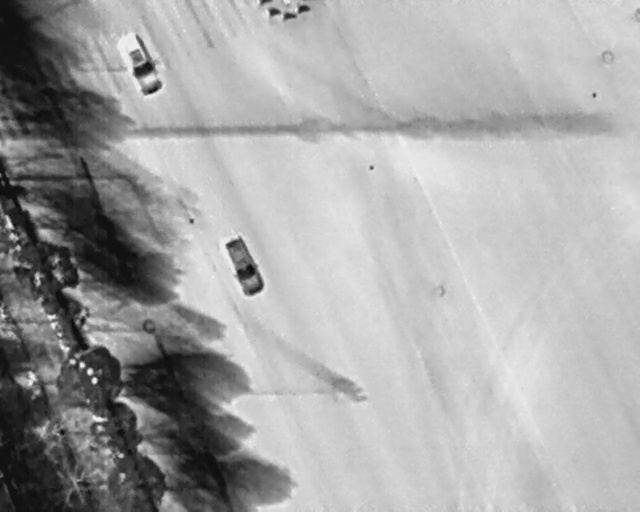Car: (111, 29, 165, 100), (215, 228, 269, 299)
